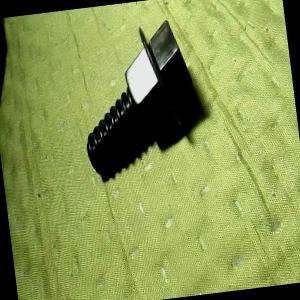parafuso: (70, 14, 204, 181)
